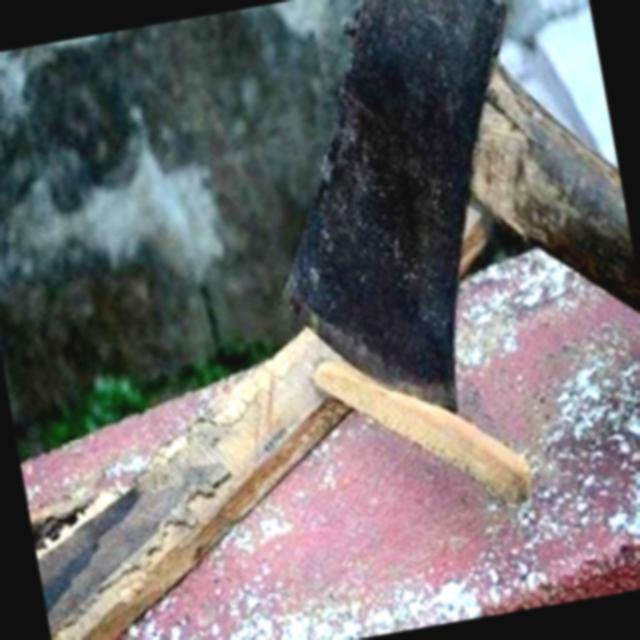ax: (224, 0, 640, 440)
